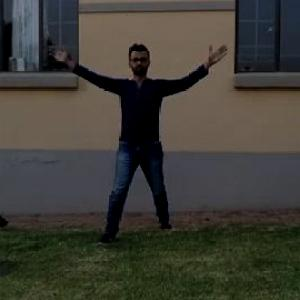takeoff: (64, 41, 238, 227)
